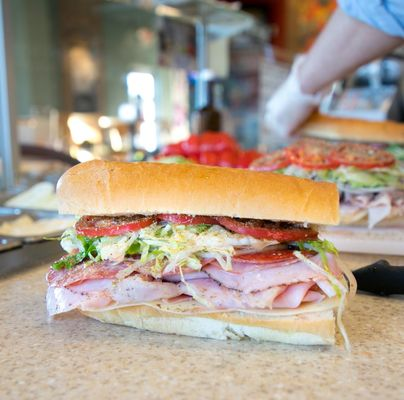soup: (42, 151, 353, 320)
